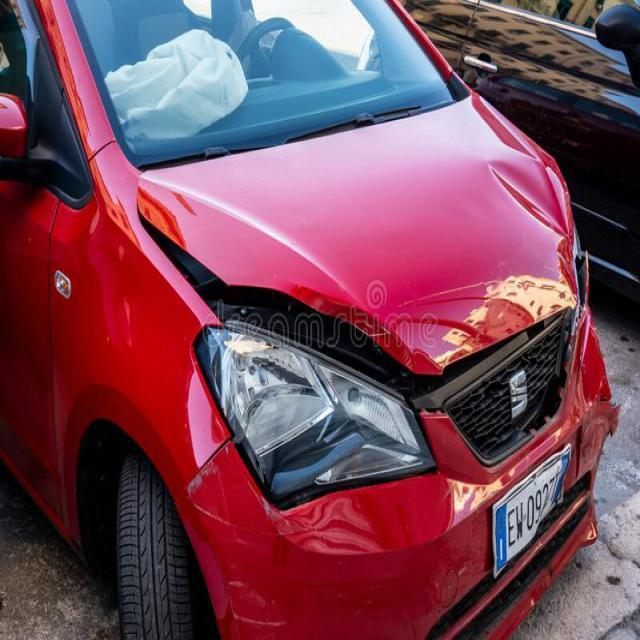bonnet-dent: (123, 176, 587, 412)
front-bumper-dent: (154, 407, 498, 639)
